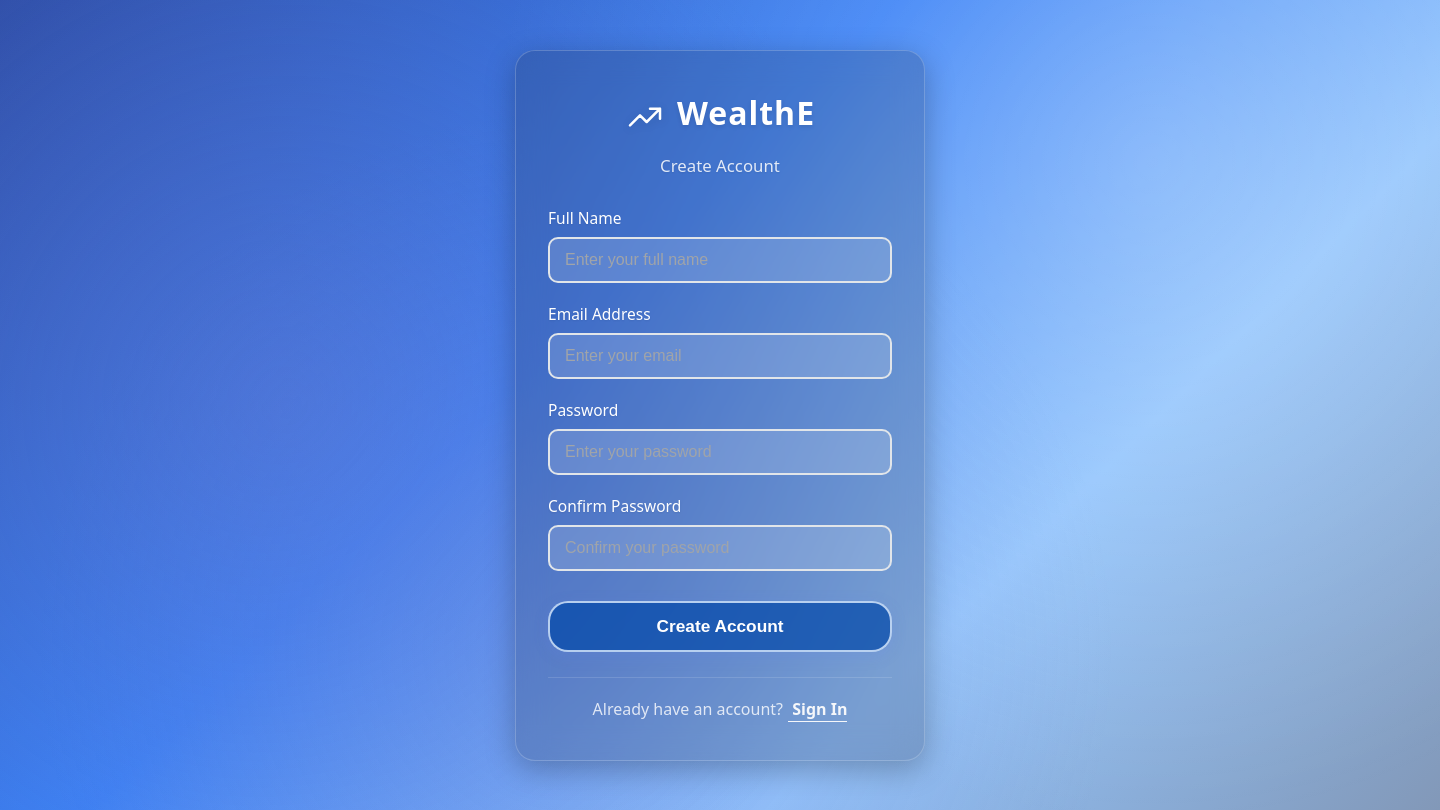
Test: Register Component › handles registration failure
This screenshot has width=1440, height=810.
In the field labelled "Full Name": (720, 260) [548,236,892,282], type "John Doe"
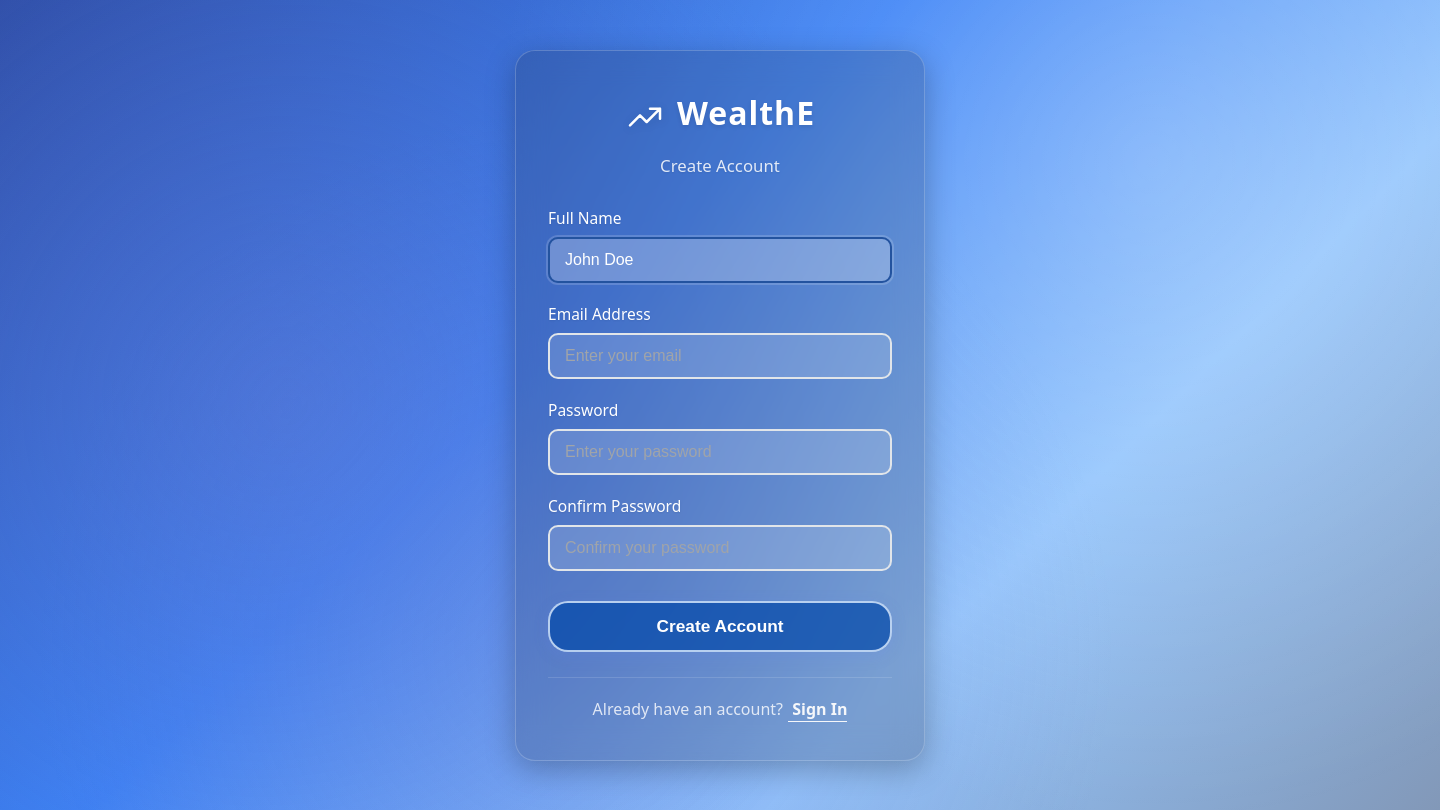
In the field labelled "Email Address": (720, 356) [548,332,892,378], type "john@example.com"
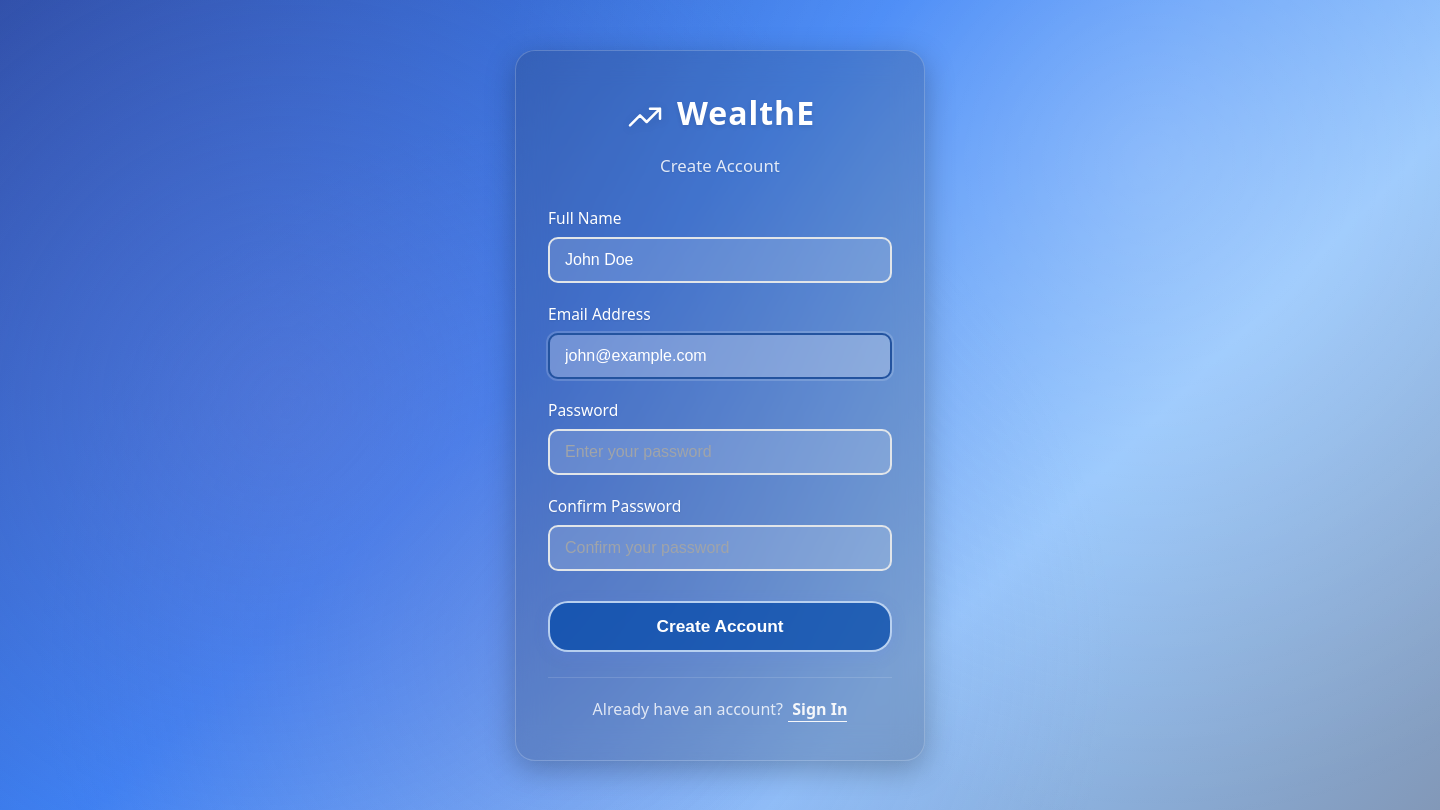
In the password field labelled "Password": (720, 452) [548,428,892,474], type "password123"
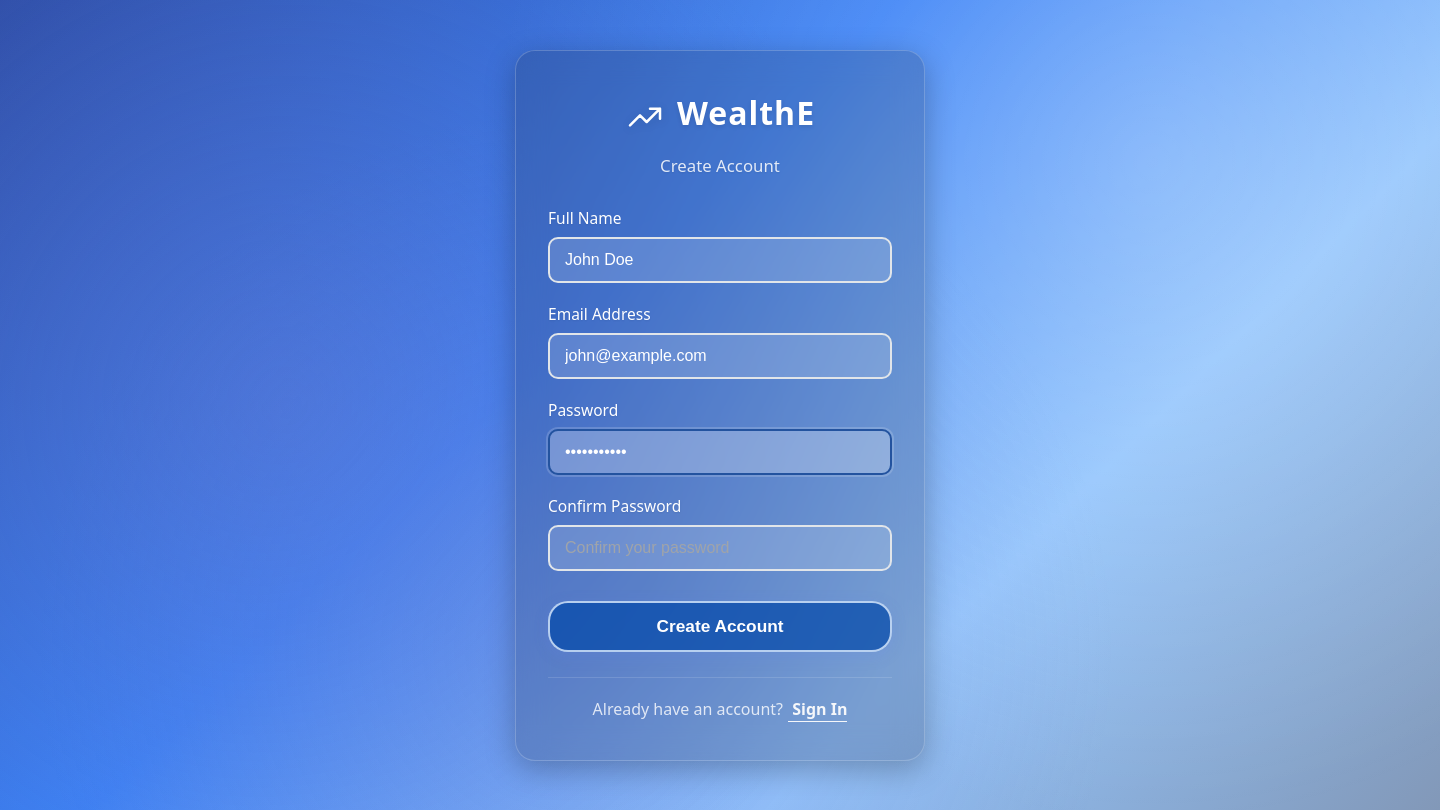
In the password field labelled "Confirm Password": (720, 548) [548,524,892,570], type "password123"
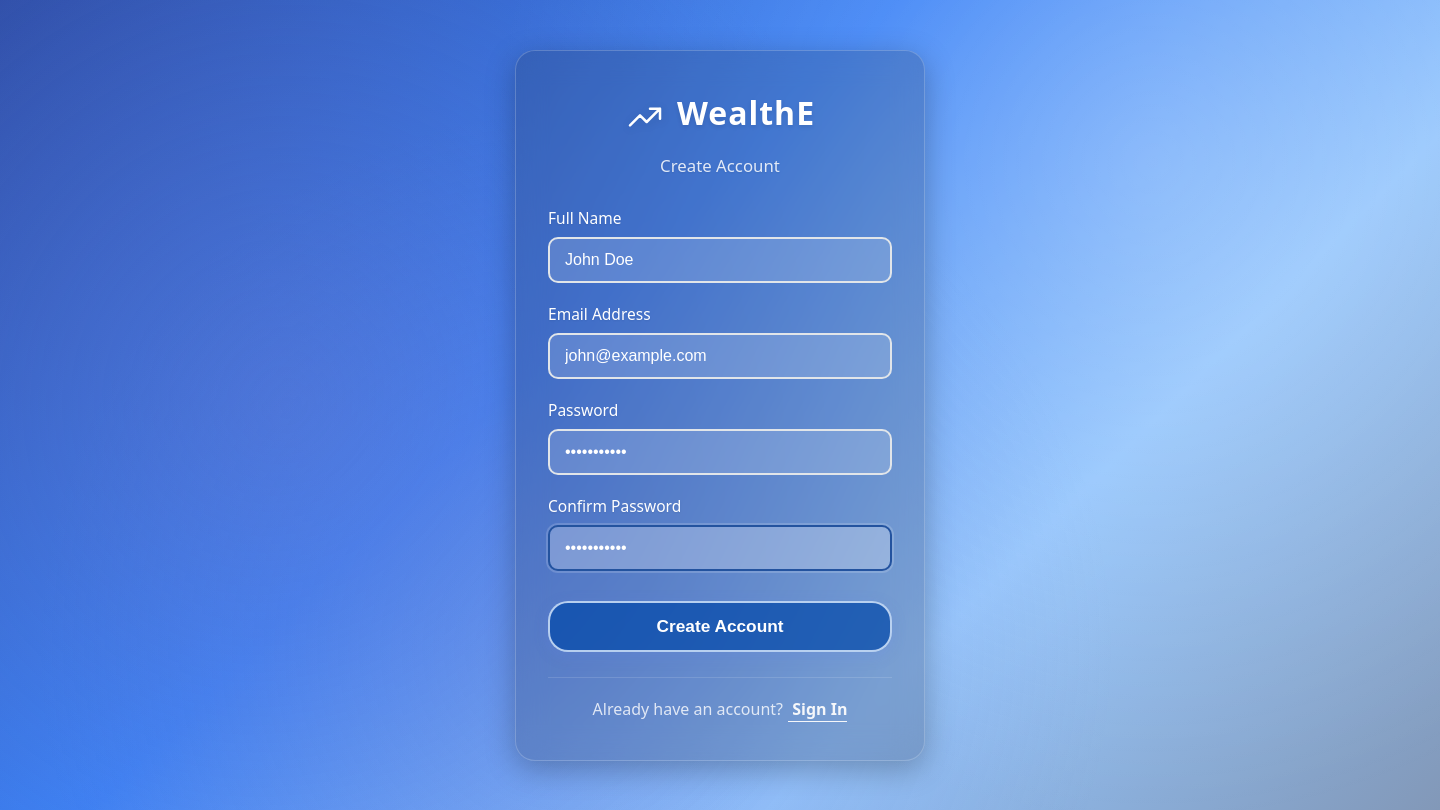
Click the button "Create Account": (720, 626) [548,600,892,652]
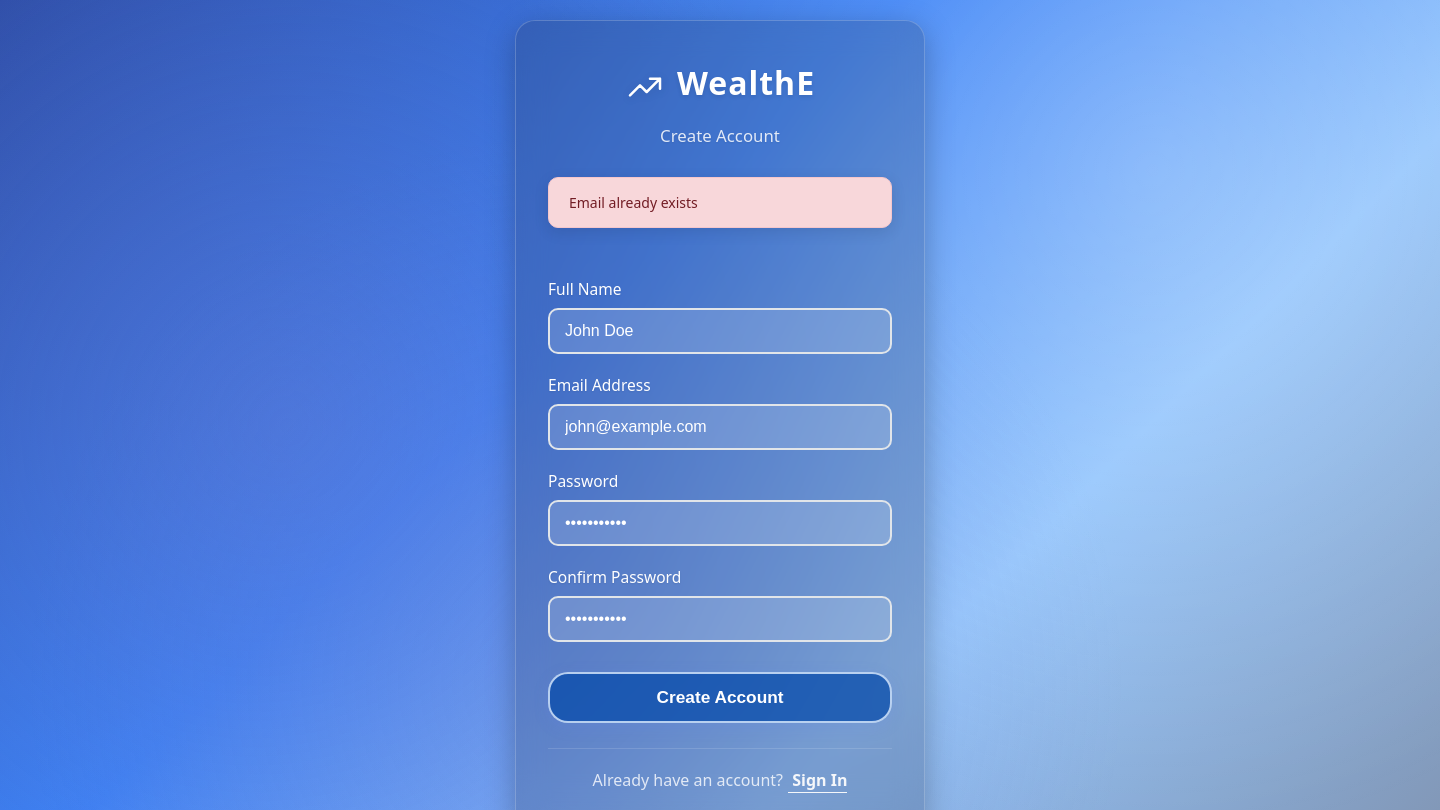
Expected: the text "Email already exists" is shown, [548,177,892,228]
